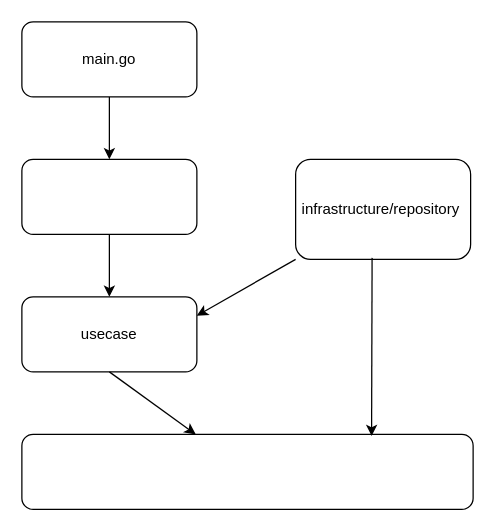
Some shapes in this 495 by 531 pixel diagram are drawn without their labels. The box of each missing label's shape, as (x1, y1, x2, y2) in pixels:
domain: (21, 433, 473, 509)
interface/http: (21, 158, 197, 234)
